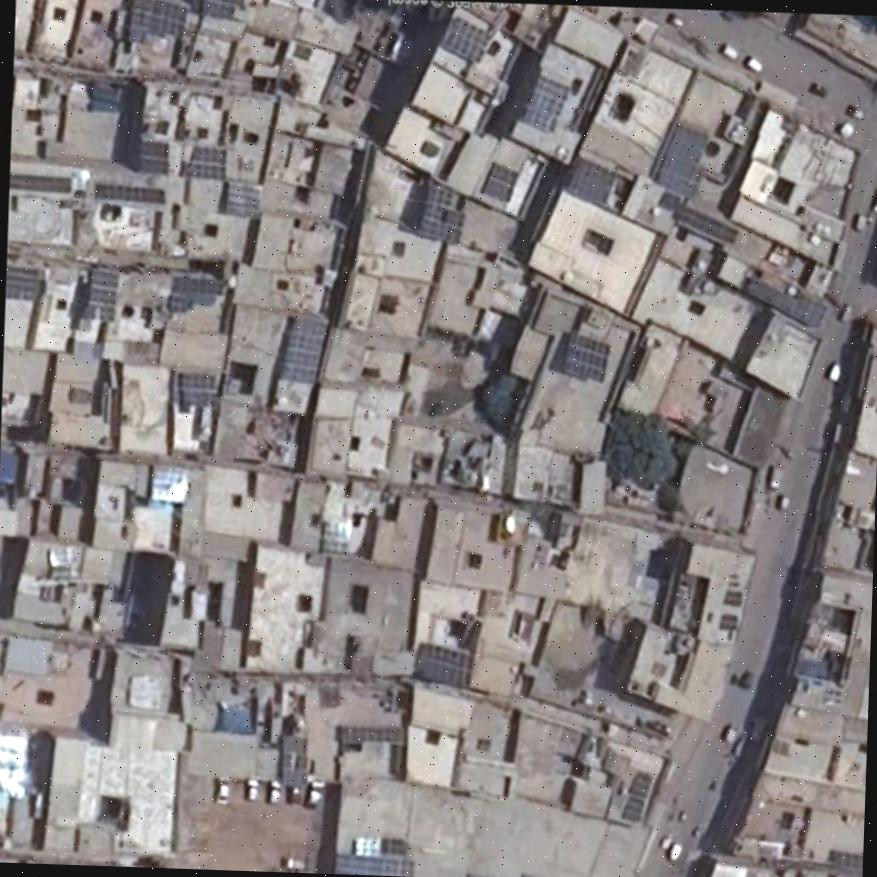Solarpanel: (656, 122, 711, 196), (744, 280, 827, 325), (278, 314, 327, 383), (417, 182, 464, 243), (523, 77, 569, 132), (673, 204, 738, 242), (567, 156, 617, 205), (412, 644, 472, 684), (442, 16, 490, 64), (129, 0, 188, 37), (564, 335, 610, 381), (86, 265, 119, 318), (334, 853, 416, 874), (481, 159, 518, 203), (0, 734, 26, 796), (180, 146, 225, 179), (151, 463, 189, 502), (94, 183, 165, 202), (226, 179, 264, 214), (5, 265, 45, 298), (178, 372, 214, 407), (8, 174, 71, 192), (320, 521, 352, 554), (140, 140, 169, 173), (340, 727, 405, 741), (832, 849, 862, 869), (629, 773, 652, 797), (622, 796, 645, 820), (204, 0, 237, 16), (657, 192, 679, 209), (723, 590, 742, 606), (720, 615, 738, 630)
